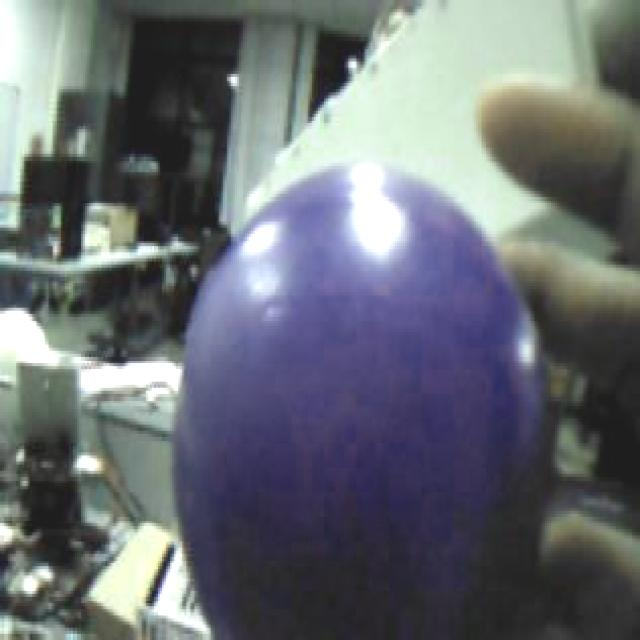BallPurple: (173, 170, 546, 640)
